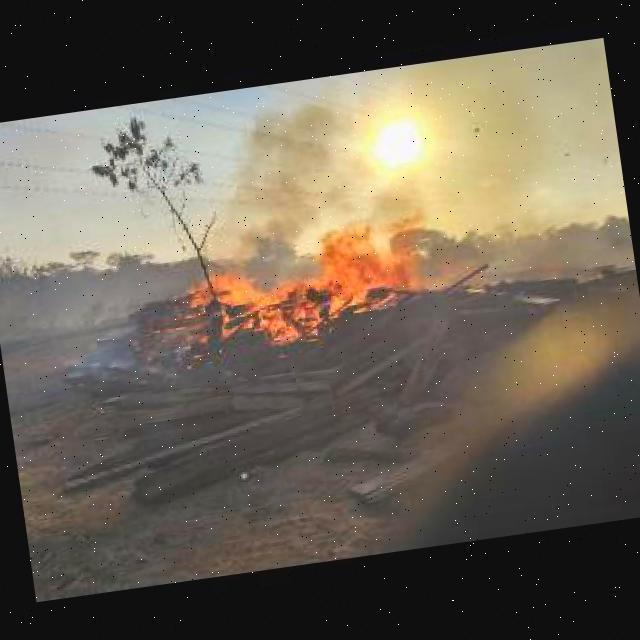Fire: (147, 214, 431, 354)
Smoke: (216, 92, 360, 268)
